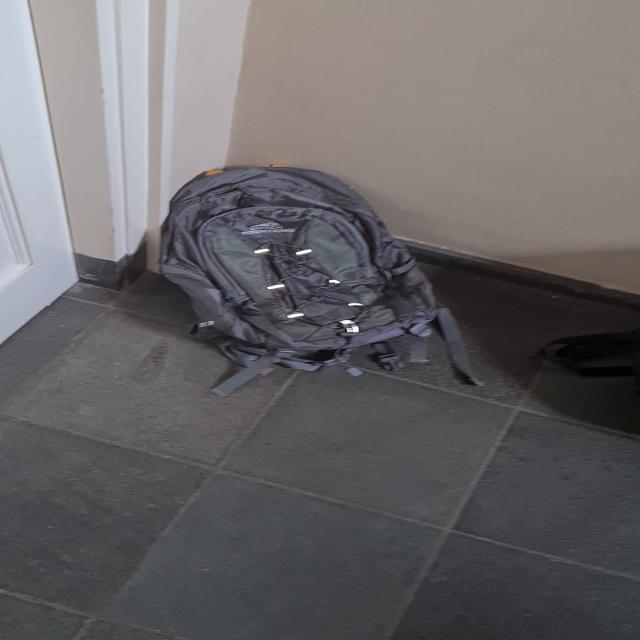backpack: (151, 158, 449, 376)
